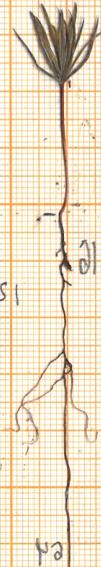flower: (11, 0, 100, 89)
root: (10, 218, 101, 567)
stem: (50, 84, 74, 218)
